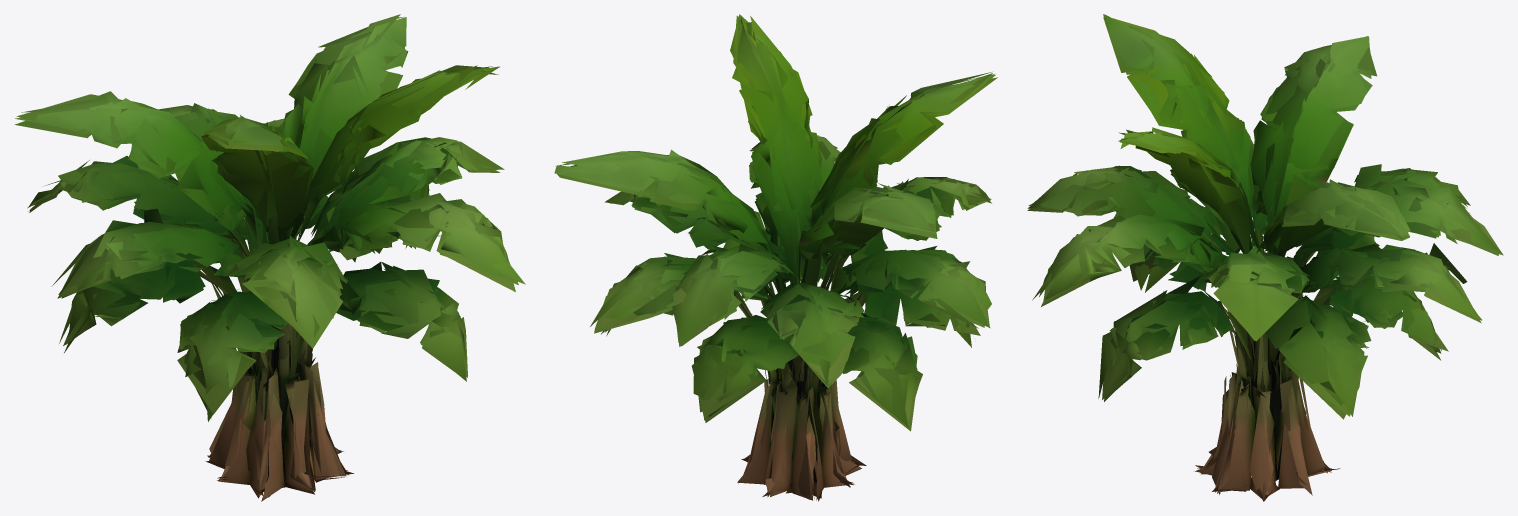
The model's file is biome_banana.glb.
3 views of the same model, side by side, from view 1: azimuth 30°, elevation 25°; view 2: azimuth 150°, elevation 25°; view 3: azimuth 270°, elevation 25° (orthographic). The views are drawn at different scales.
Parts seen in each view (by area): view 1: Mesh_0; view 2: Mesh_0; view 3: Mesh_0.
Boxes of the visible parts, box(x1,y1,x2,y2) form: Mesh_0: box(14, 14, 525, 501); Mesh_0: box(554, 14, 997, 501); Mesh_0: box(1027, 14, 1503, 501).
Bounding box in the file's own units: 3.87 × 3.65 × 3.84.
1 material, 1 textured.
